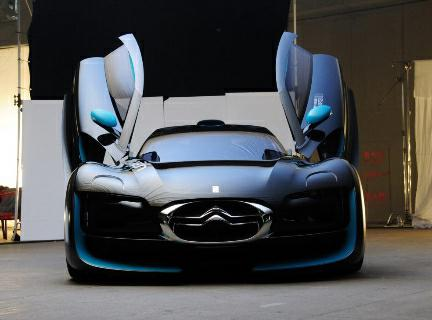雪铁龙-Survolt: (60, 119, 367, 289)
